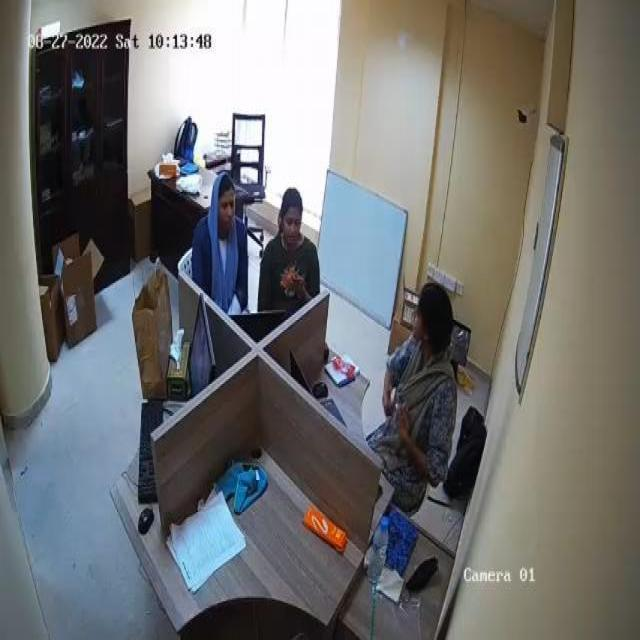bare_hand: (390, 397, 420, 456), (279, 271, 312, 300), (377, 377, 400, 414)
